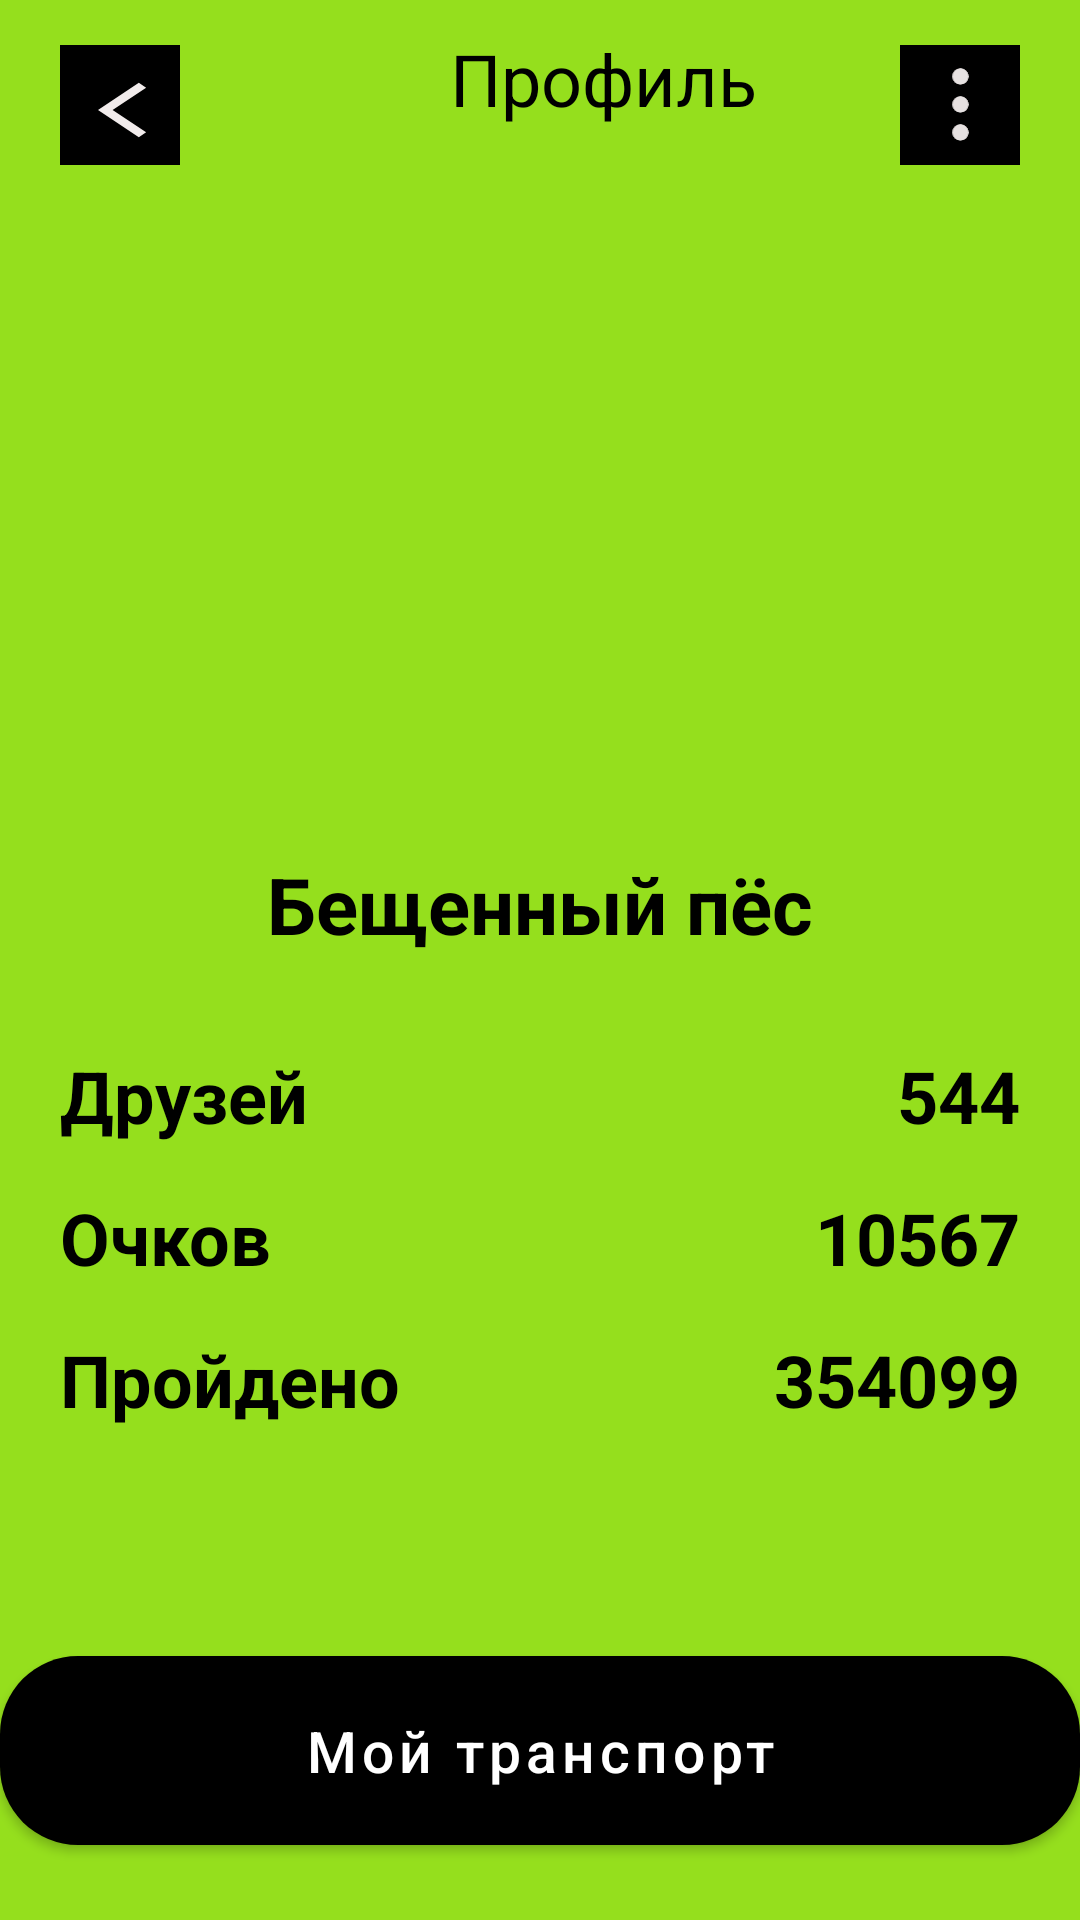

Named icons in this screenshot (1080 × 1920) and their bounding boxes, [x1,y1,x2,y2]:
menu: [952,68,969,141]
